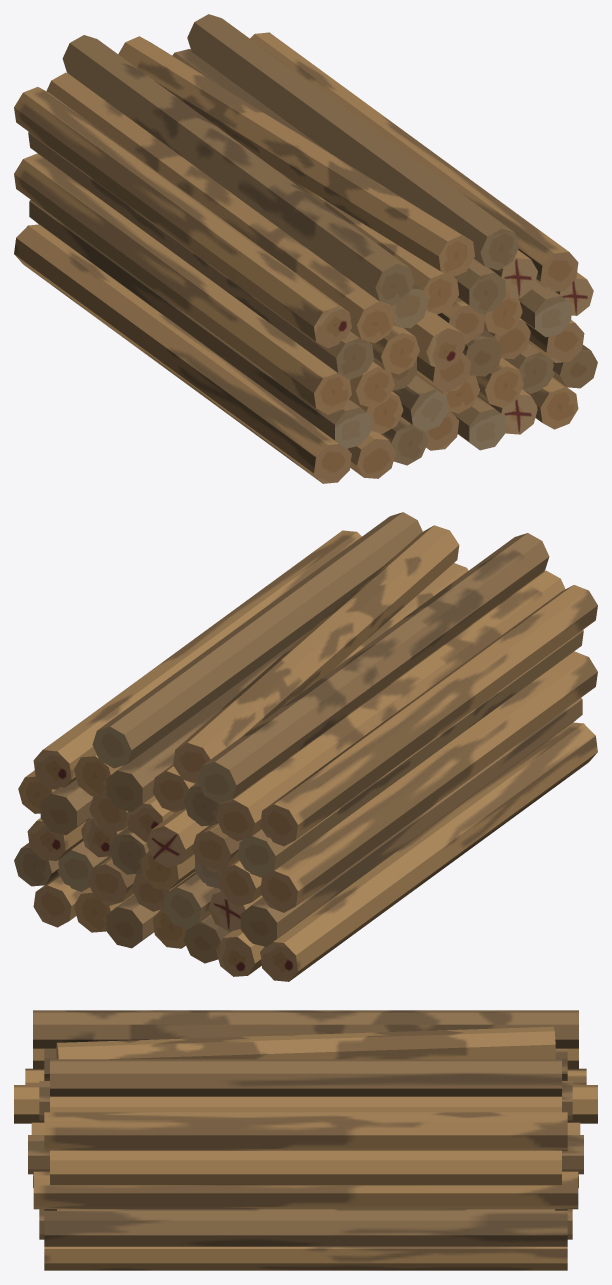
The model's file is SM_Prop_LogPile_Small_02.fbx.
3 renders of one model, top to bottom at view 1: azimuth 30°, elevation 25°; view 2: azimuth 150°, elevation 25°; view 3: azimuth 270°, elevation 25°, orthographic. The views are drawn at different scales.
Parts seen in each view (by area): view 1: SM_Prop_LogPile_Small_02; view 2: SM_Prop_LogPile_Small_02; view 3: SM_Prop_LogPile_Small_02.
Part boxes in pixels (<box>): SM_Prop_LogPile_Small_02: <box>14,14,597,483</box>; SM_Prop_LogPile_Small_02: <box>14,512,597,981</box>; SM_Prop_LogPile_Small_02: <box>14,1010,597,1270</box>.
Bounding box in the file's own units: 519 × 368 × 1059.
